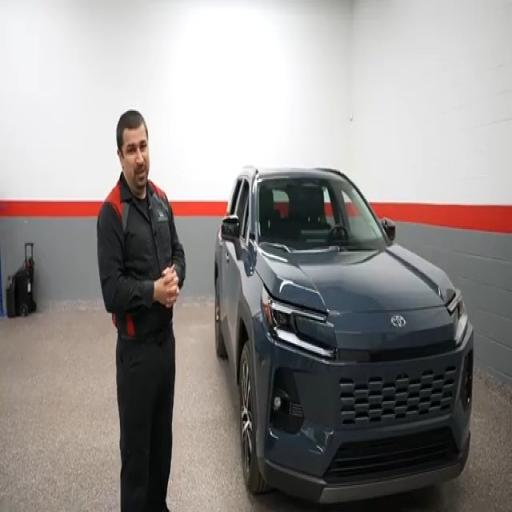bumper: (257, 326, 472, 503), (260, 436, 470, 503)
door: (224, 242, 243, 349), (219, 239, 229, 335)
emblem: (391, 315, 406, 328)
fog_light: (273, 396, 281, 411)
grille: (324, 429, 458, 484), (340, 366, 456, 425)
headlight: (262, 288, 335, 358), (447, 291, 468, 345)
hood: (256, 245, 454, 312)
side_mirror: (221, 215, 239, 241), (381, 218, 395, 241)
tire: (215, 278, 227, 359)
wheel: (239, 343, 268, 494)
window: (235, 178, 249, 240), (228, 178, 242, 214)
windshield: (257, 175, 387, 250)
